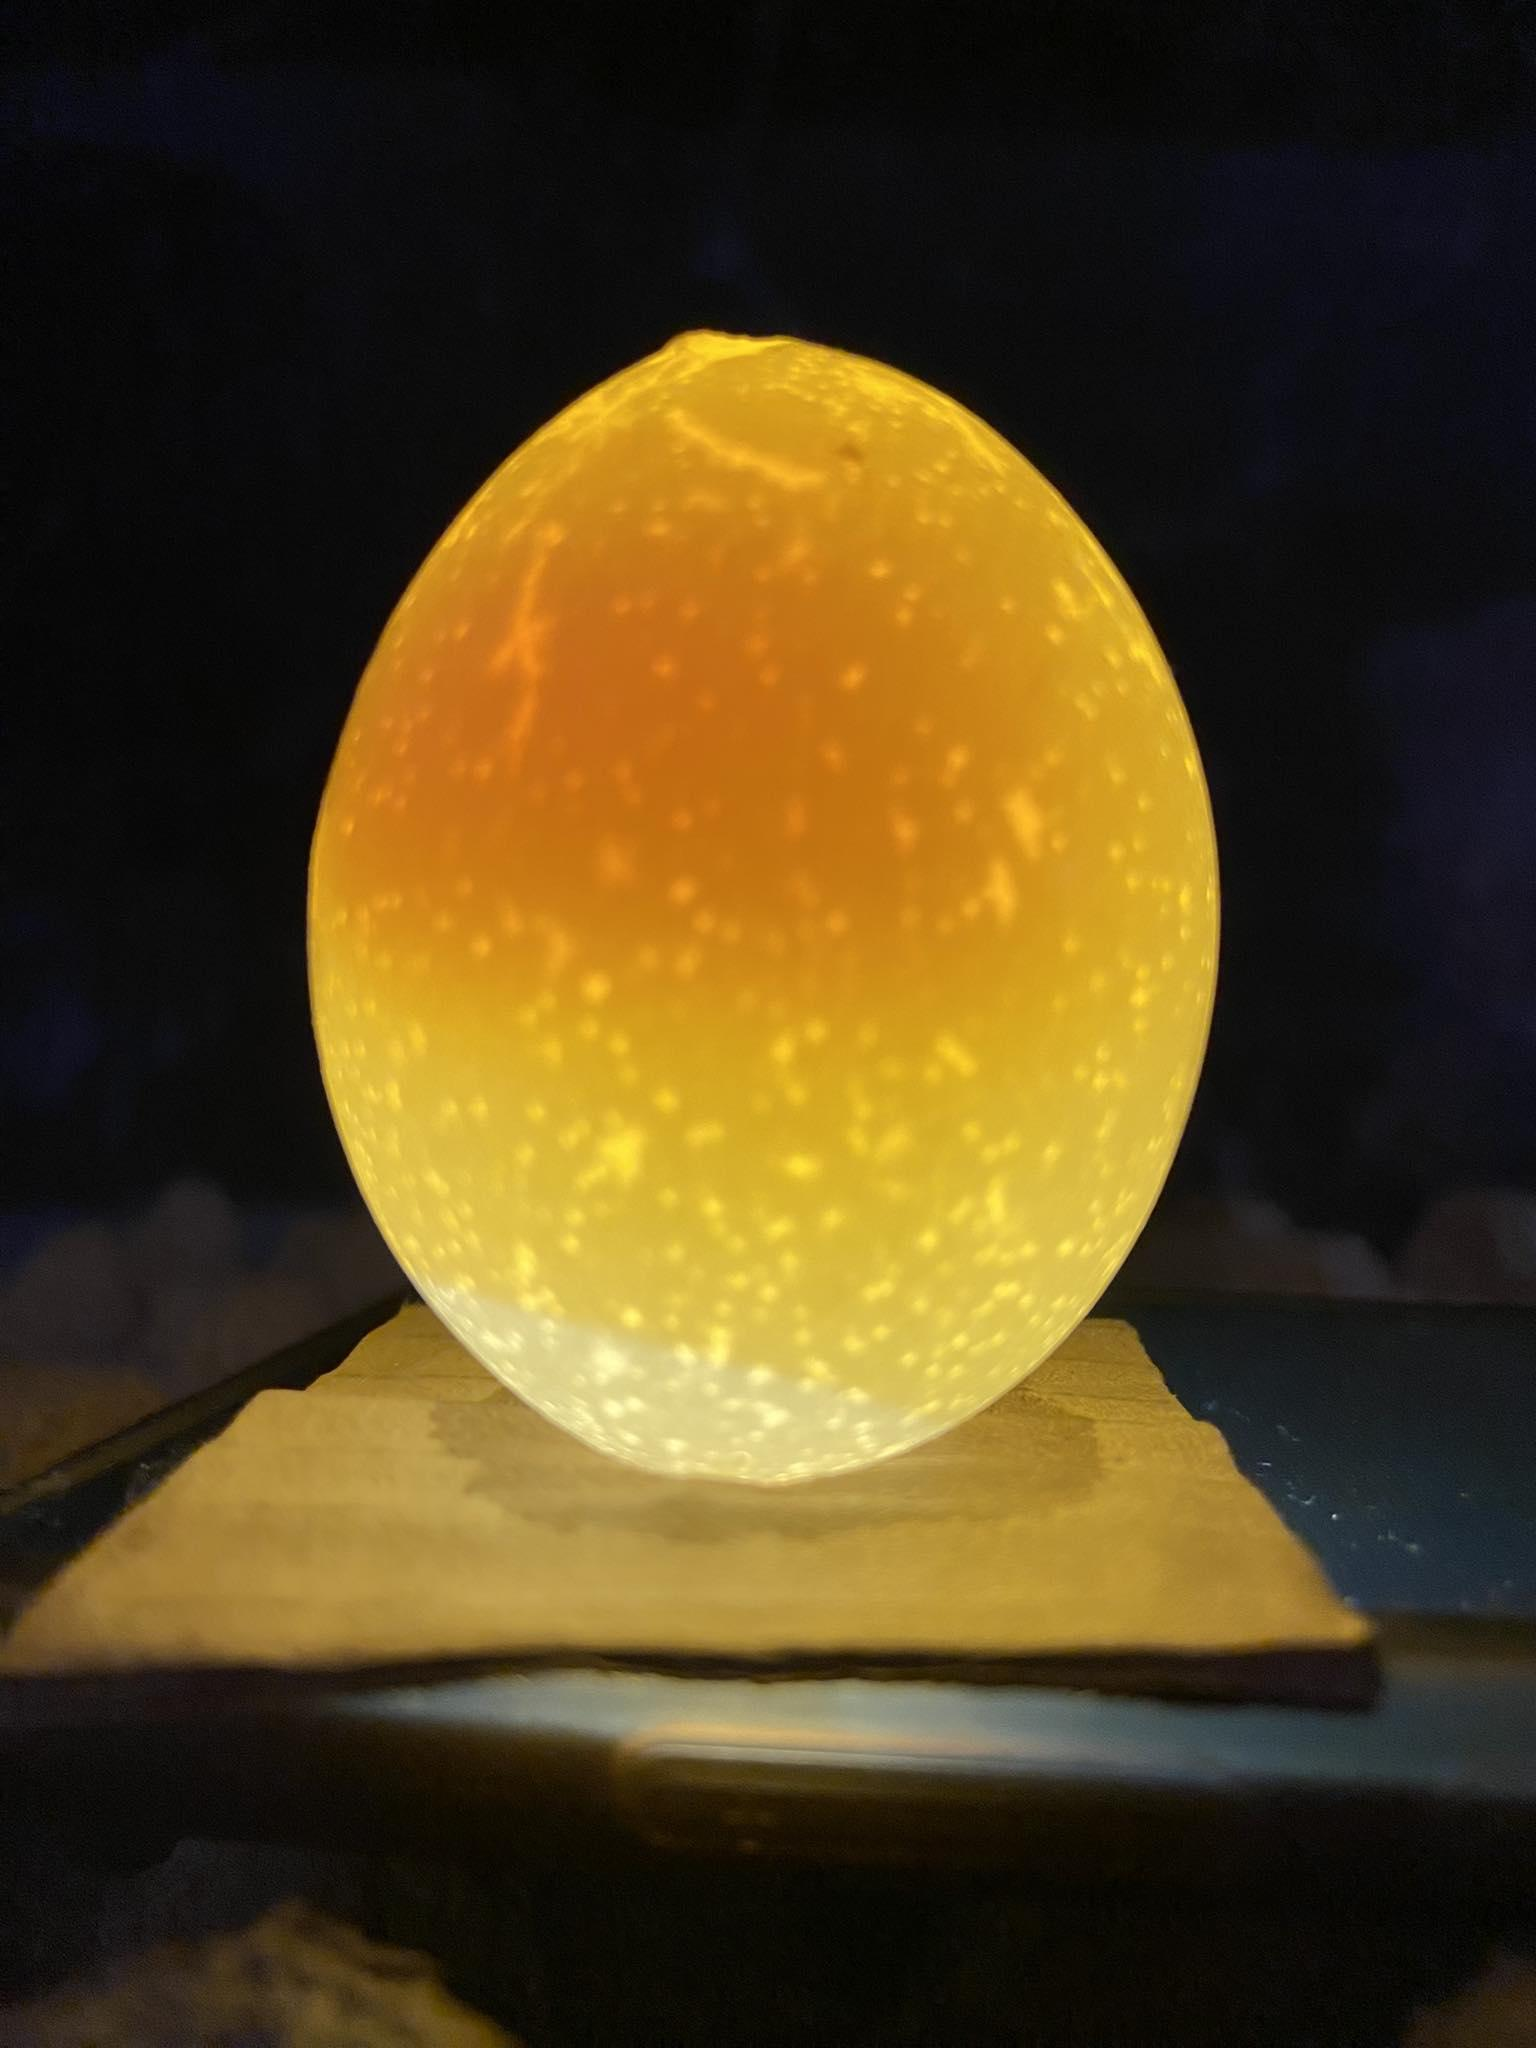B - Fair: (290, 316, 1247, 1467)
